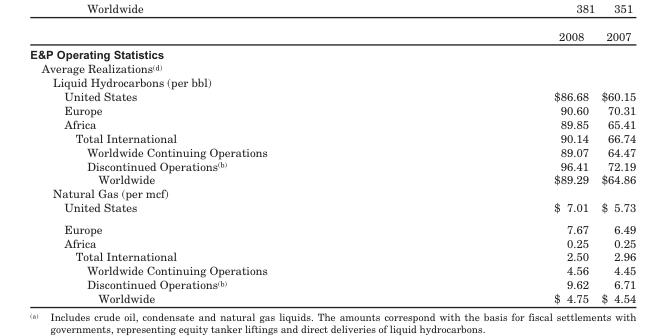table: (29, 28, 635, 304)
table column: (29, 28, 410, 304), (410, 28, 594, 304), (594, 28, 635, 304)
table column header: (29, 28, 635, 44)
table projected row header: (29, 44, 635, 61), (29, 61, 635, 75), (29, 186, 635, 200), (29, 75, 635, 88)
table row: (29, 217, 635, 235), (29, 44, 635, 61), (29, 200, 635, 217), (29, 28, 635, 44), (29, 61, 635, 75), (29, 88, 635, 102), (29, 102, 635, 116), (29, 116, 635, 130), (29, 130, 635, 144), (29, 144, 635, 158), (29, 158, 635, 172), (29, 172, 635, 186), (29, 186, 635, 200), (29, 235, 635, 249), (29, 249, 635, 263), (29, 263, 635, 277), (29, 277, 635, 291), (29, 75, 635, 88), (29, 291, 635, 304)
